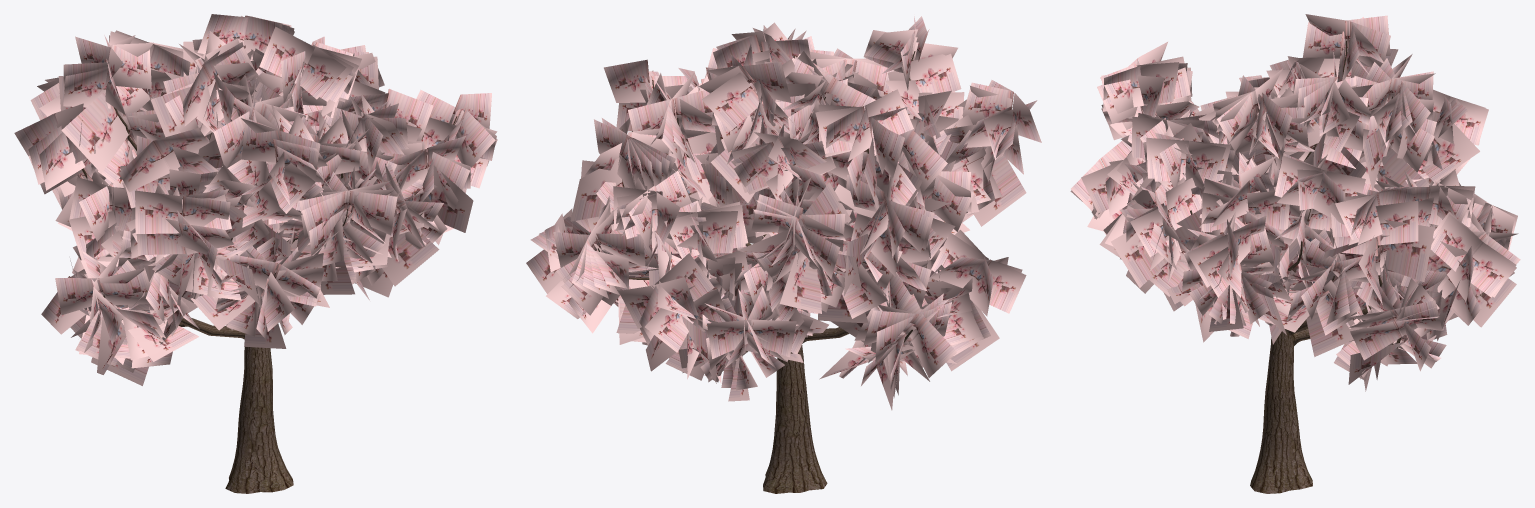
Rendered from sakura_quest_lod0.glb.
3 views of the same model, side by side, from view 1: azimuth 30°, elevation 25°; view 2: azimuth 150°, elevation 25°; view 3: azimuth 270°, elevation 25° (orthographic). The views are drawn at different scales.
Parts seen in each view (by area): view 1: Sakura_Sakura_Mat_0, Sakura_Bark001_2K_JPG_Mat_0; view 2: Sakura_Sakura_Mat_0, Sakura_Bark001_2K_JPG_Mat_0; view 3: Sakura_Sakura_Mat_0, Sakura_Bark001_2K_JPG_Mat_0.
Boxes of the visible parts, x1=… form: Sakura_Sakura_Mat_0: x1=14, y1=14, x2=497, y2=385; Sakura_Bark001_2K_JPG_Mat_0: x1=81, y1=87, x2=457, y2=493; Sakura_Sakura_Mat_0: x1=526, y1=16, x2=1041, y2=410; Sakura_Bark001_2K_JPG_Mat_0: x1=598, y1=51, x2=927, y2=493; Sakura_Sakura_Mat_0: x1=1070, y1=14, x2=1520, y2=391; Sakura_Bark001_2K_JPG_Mat_0: x1=1190, y1=41, x2=1401, y2=493.
Bounding box in the file's own units: 0.4036 × 0.4172 × 0.4016.
2 materials, 2 textured.
